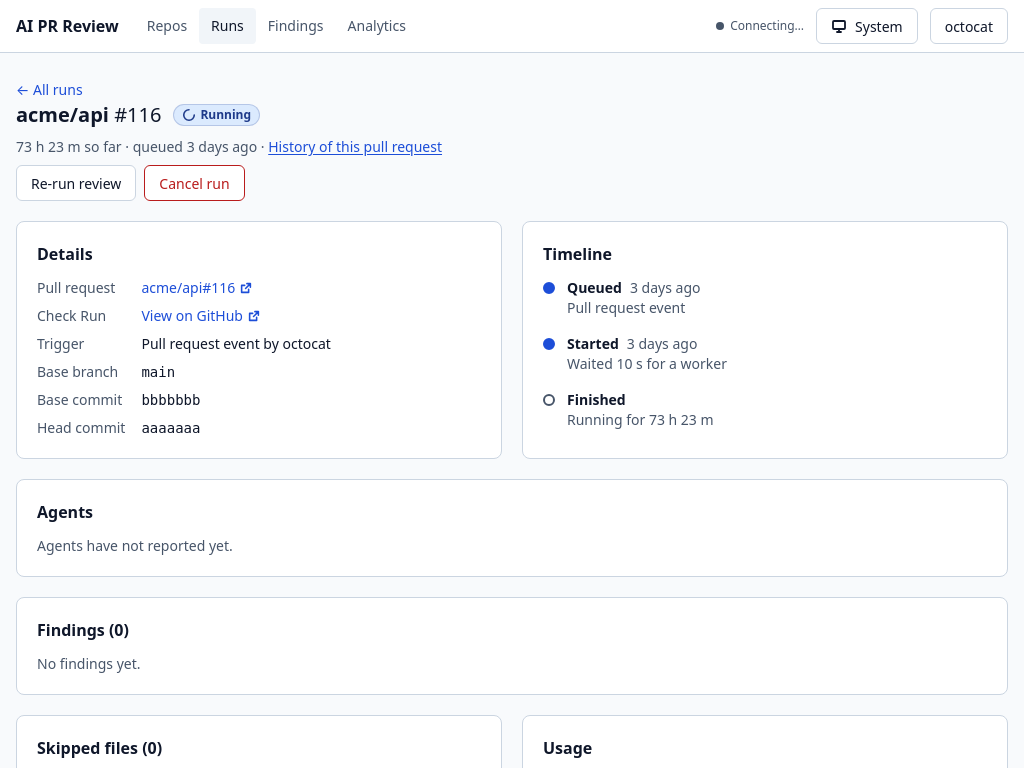
Cancel › shows a refusal, such as a run that finished a moment ago
Click the button "Cancel run".
click(194, 183)  # box [144,165,245,201]
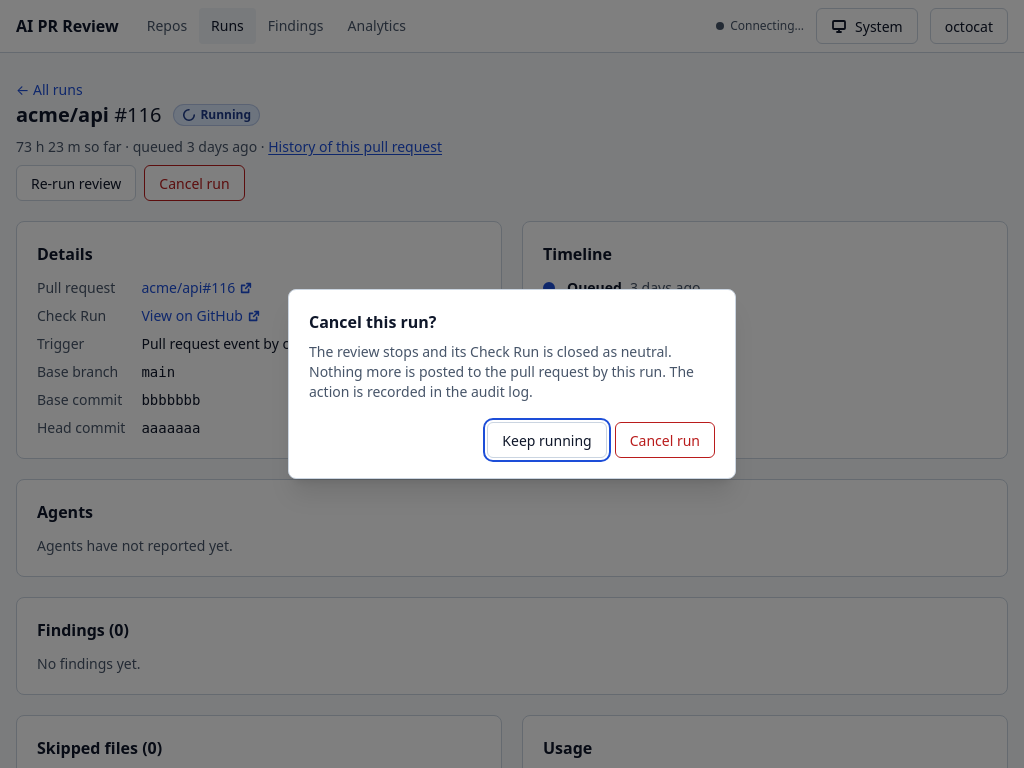
Click the button "Cancel run".
click(665, 440)  # box [615,422,715,458]
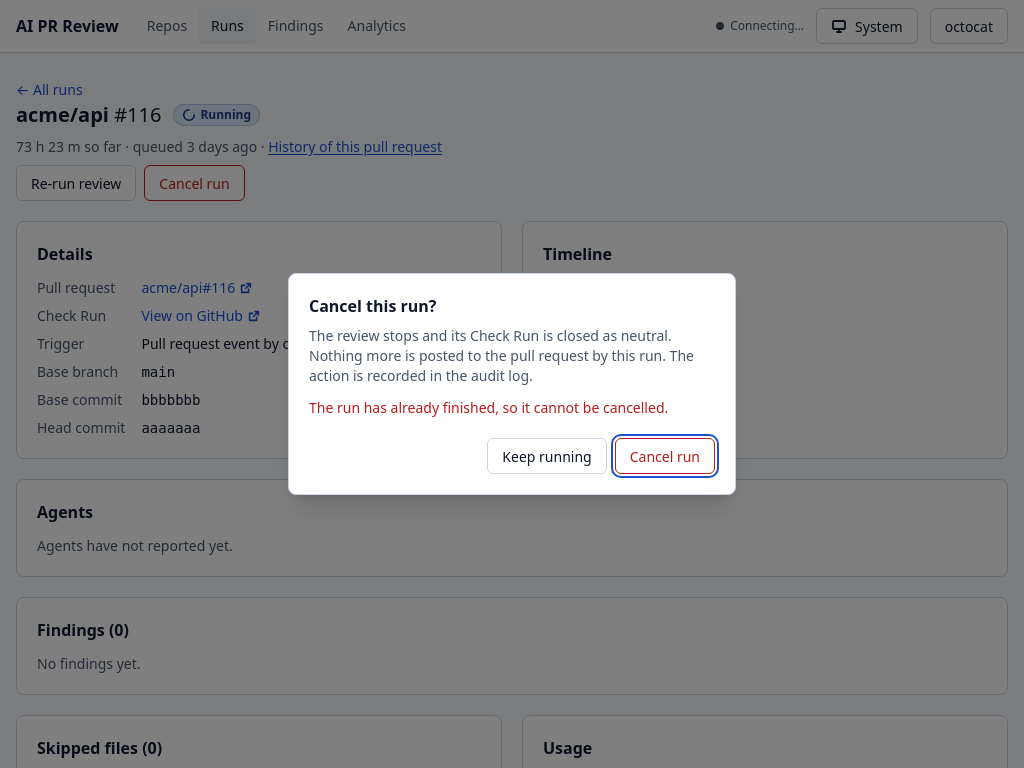
Check: the text "The run has already finished, so it cannot be cancelled." is shown, box [309,398,715,418]
